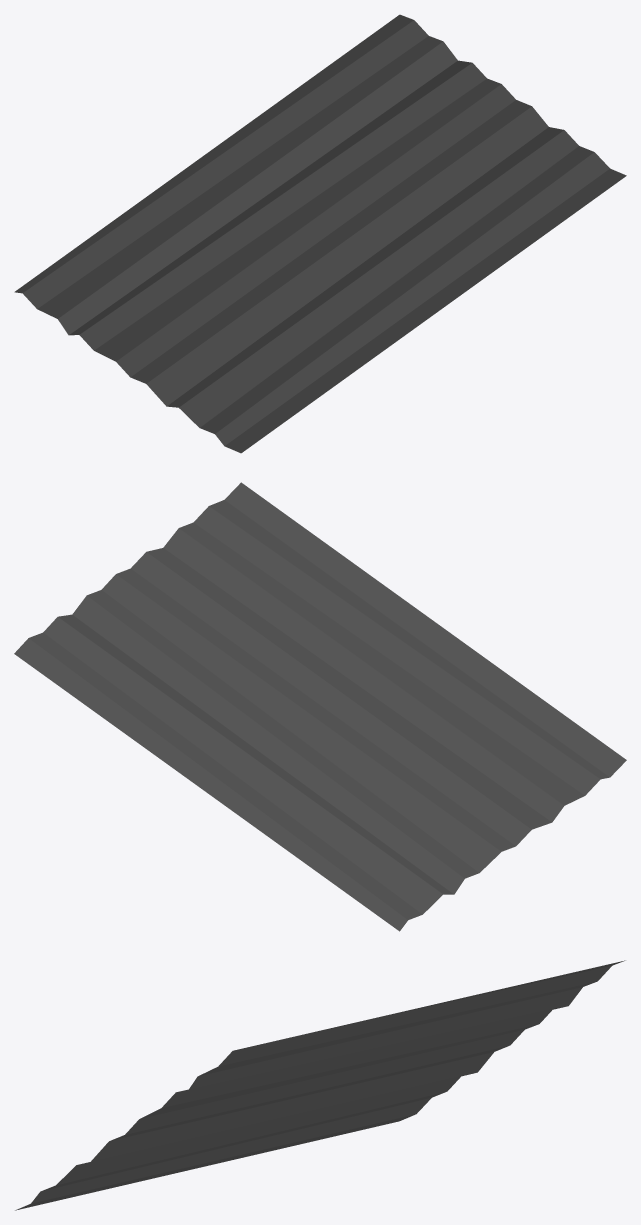
Rendered from builder_17.FBX.
3 renders of one model, top to bottom at view 1: azimuth 30°, elevation 25°; view 2: azimuth 150°, elevation 25°; view 3: azimuth 330°, elevation 25°, orthographic.
Parts seen in each view (by area): view 1: builder_17; view 2: builder_17; view 3: builder_17.
Part boxes in pixels (<box>): builder_17: <box>14,14,626,453</box>; builder_17: <box>14,482,626,931</box>; builder_17: <box>15,960,625,1210</box>.
Size of the model in its own units: 129 by 61.21 by 131.
